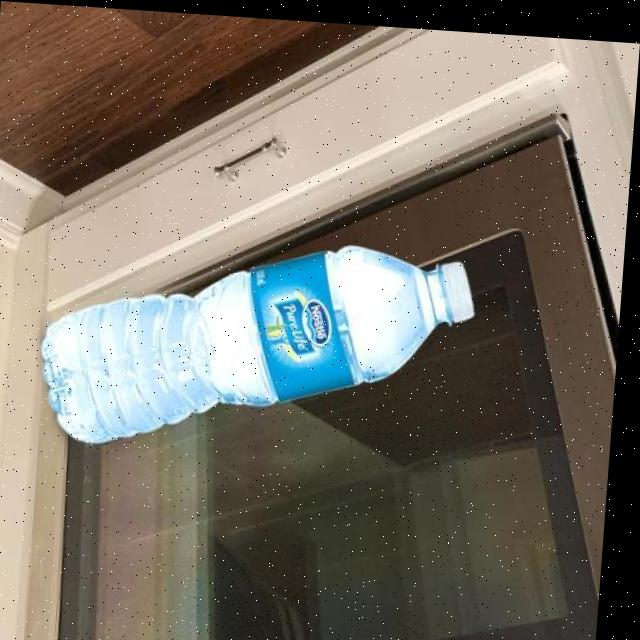bottle: (40, 222, 483, 463)
